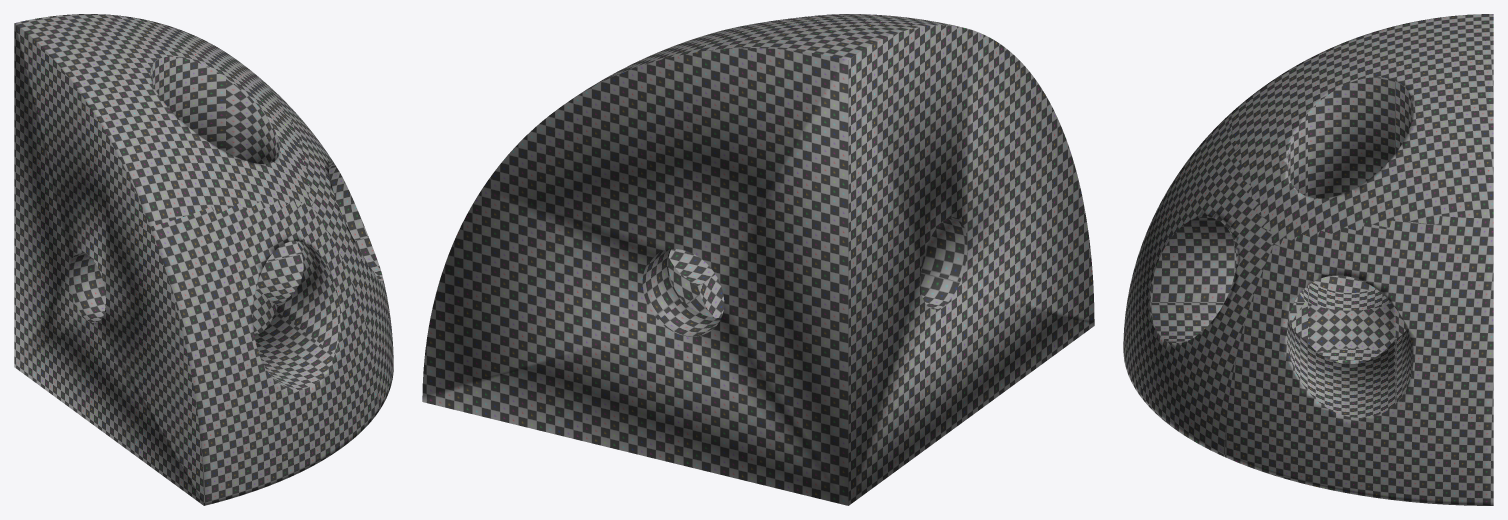
Rendered from corner.glb.
3 renders of one model, left to right at view 1: azimuth 30°, elevation 25°; view 2: azimuth 150°, elevation 25°; view 3: azimuth 270°, elevation 25°, orthographic. The views are drawn at different scales.
Visible parts, largest first — view 1: corner; view 2: corner; view 3: corner.
Part boxes in pixels (x1,y1,x2,y2): corner: (14, 14, 393, 505); corner: (422, 14, 1094, 505); corner: (1123, 14, 1493, 505).
Size of the model in its own units: 12 by 12 by 12.
Materials: 1 (1 with a texture image).
